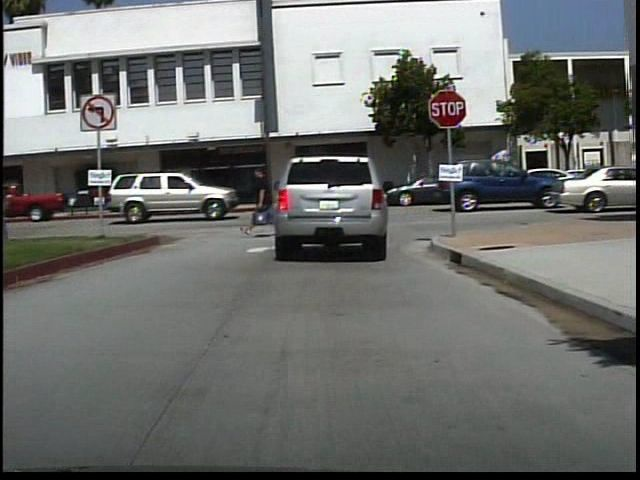person: (249, 159, 282, 241), (117, 171, 140, 210), (144, 171, 163, 209)
